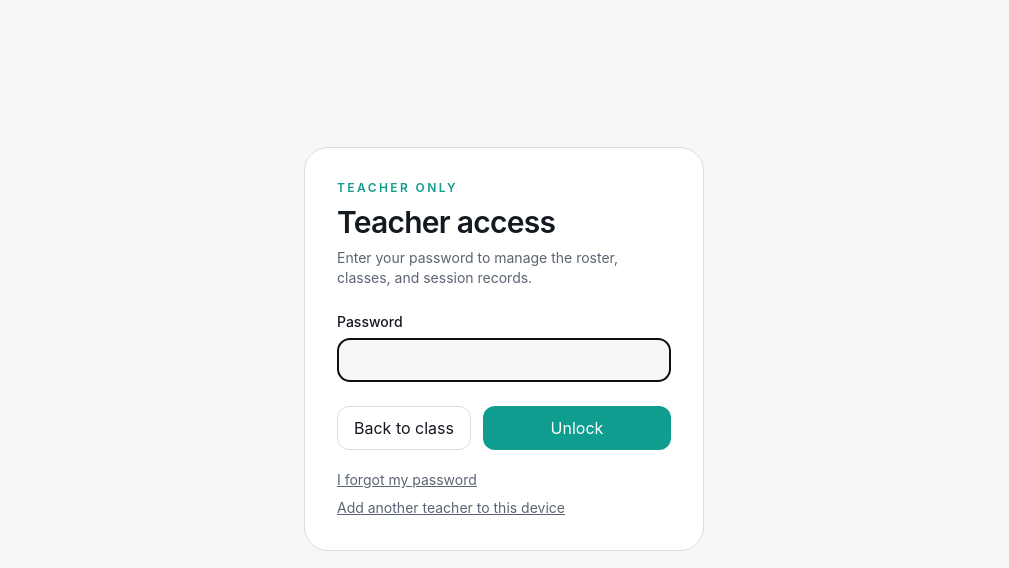
it: roster management › adds a student and shows them on the roster
In the password field labelled "Password": (504, 360) [337,338,671,382], type "Bio Room 214!"
Click the button "Unlock": (577, 428) [483,406,671,450]
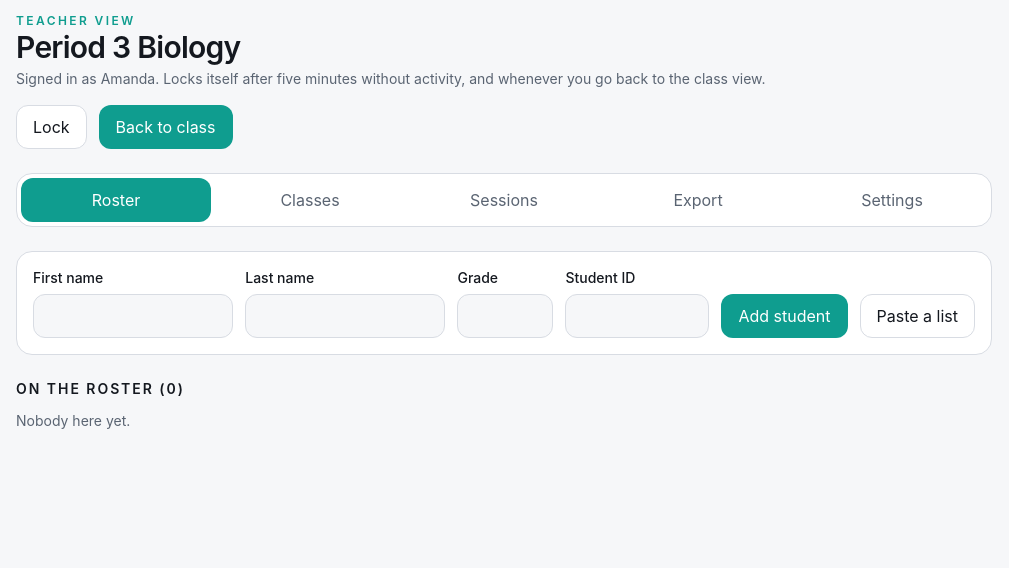
Expected: the heading "Period 3 Biology" is shown, [16,29,240,65]
In the field labelled "First name": (133, 316) [33,294,233,338], type "Maya"
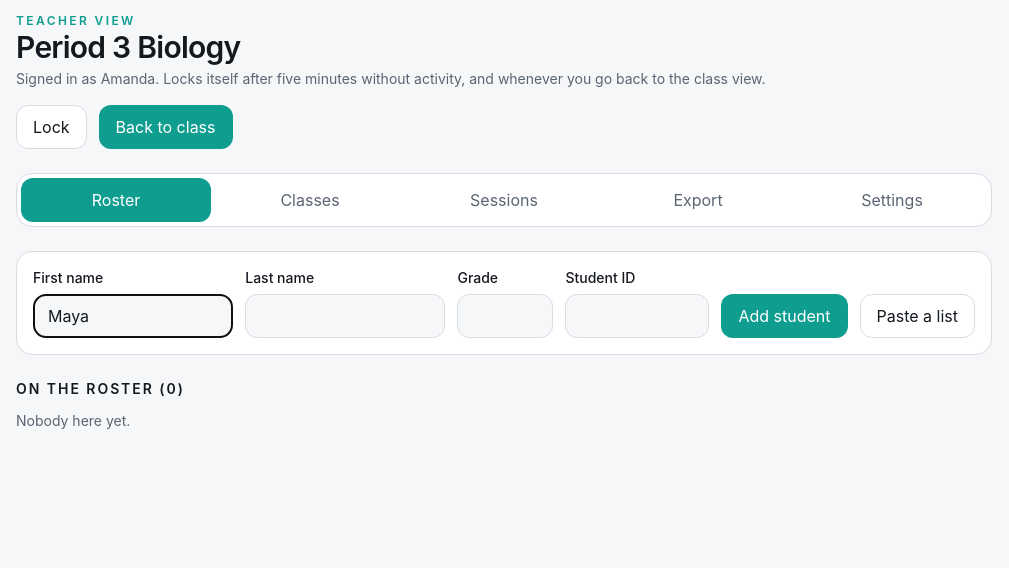
In the field labelled "Last name": (345, 316) [245,294,445,338], type "Alvarez"
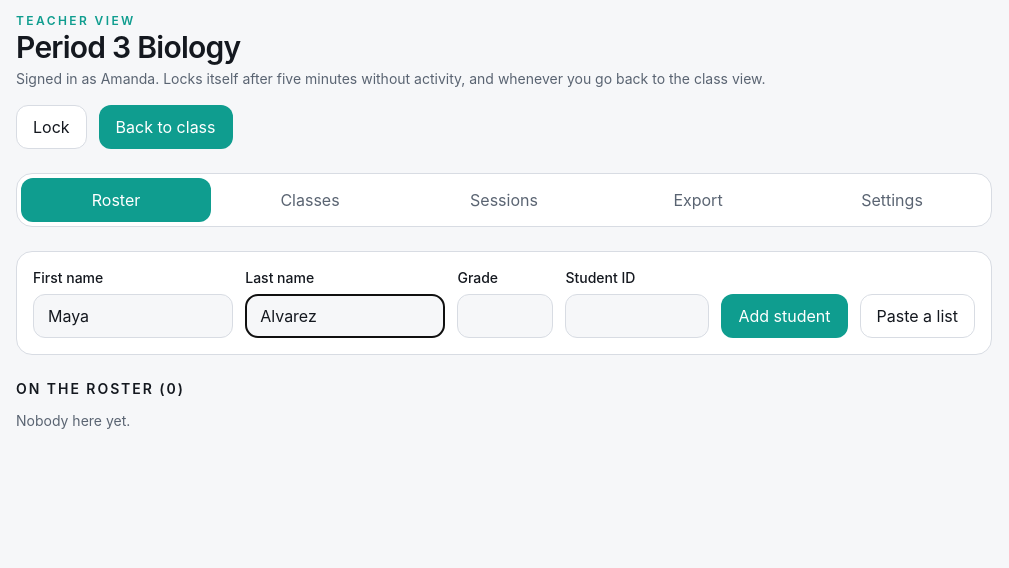
In the field labelled "Grade": (505, 316) [457,294,553,338], type "10"
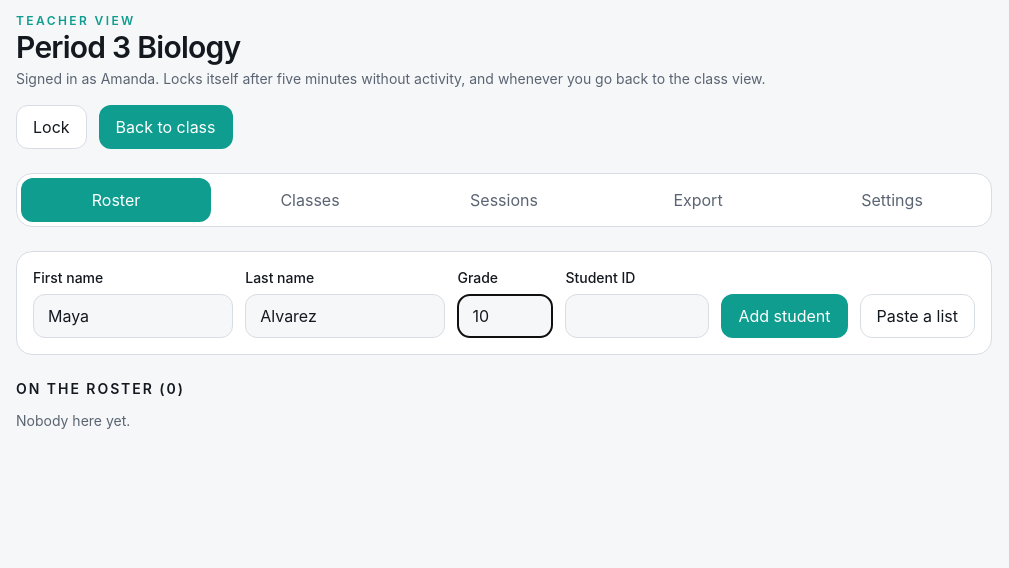
In the field labelled "Student ID": (637, 316) [565,294,709,338], type "10442"
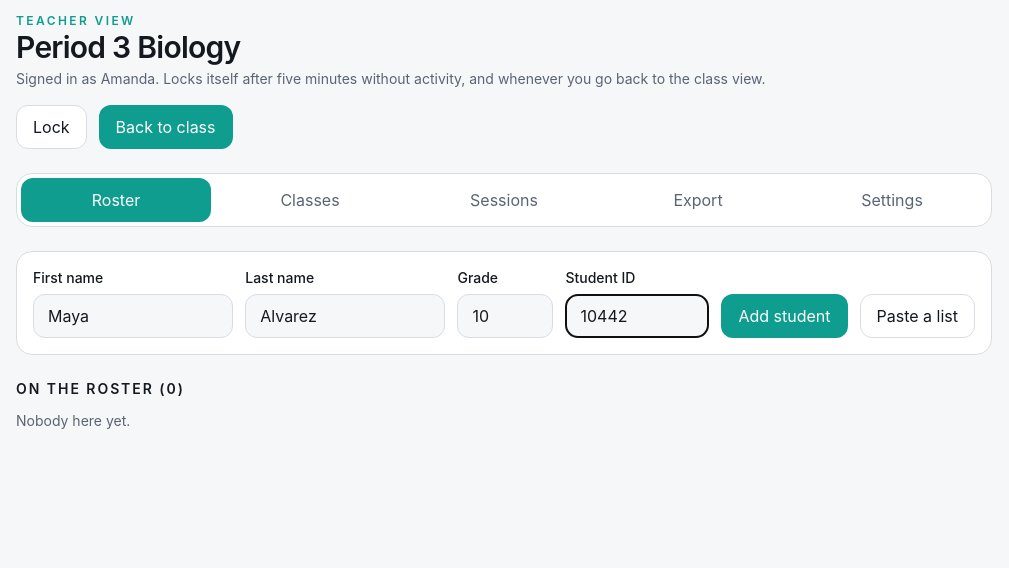
Click the button "Add student": (784, 316) [721,294,848,338]
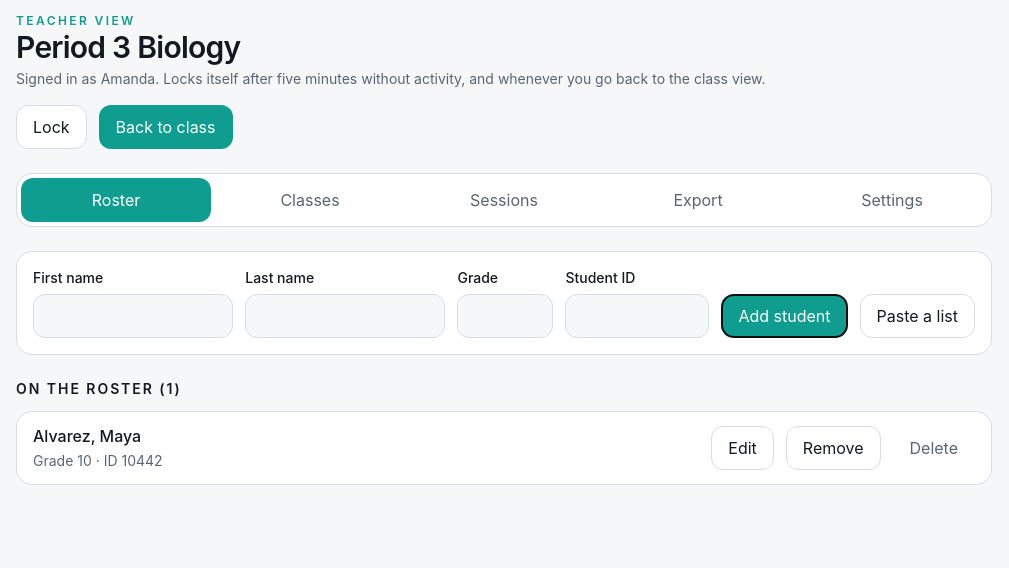
Expected: the text "Alvarez, Maya" is shown, [33,426,141,446]
Expected: the text "Grade 10 · ID 10442" is shown, [33,452,163,469]
